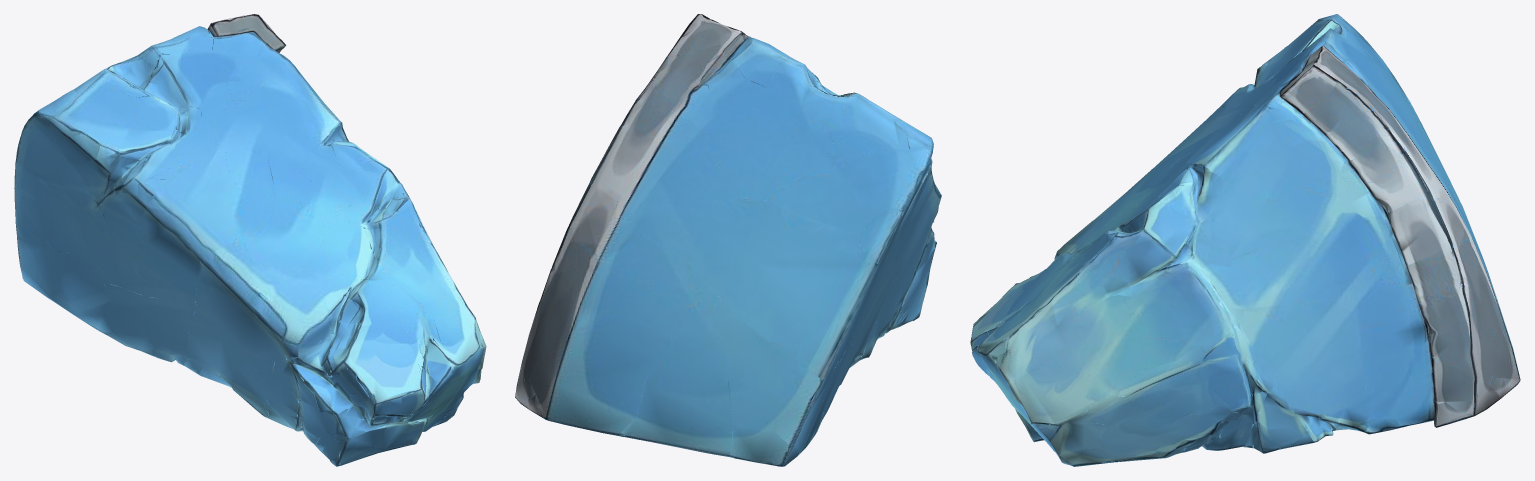
Rendered from armor_shard.glb.
3 renders of one model, left to right at view 1: azimuth 30°, elevation 25°; view 2: azimuth 150°, elevation 25°; view 3: azimuth 270°, elevation 25°, orthographic. The views are drawn at different scales.
Visible parts, largest first — view 1: Mesh_0; view 2: Mesh_0; view 3: Mesh_0.
Boxes of the visible parts, left/top/right/bottom form: Mesh_0: left=14, top=14, right=486, bottom=466; Mesh_0: left=515, top=14, right=941, bottom=466; Mesh_0: left=970, top=14, right=1520, bottom=466.
Size of the model in its own units: 0.4179 by 0.45 by 0.6133.
1 material, 1 textured.
